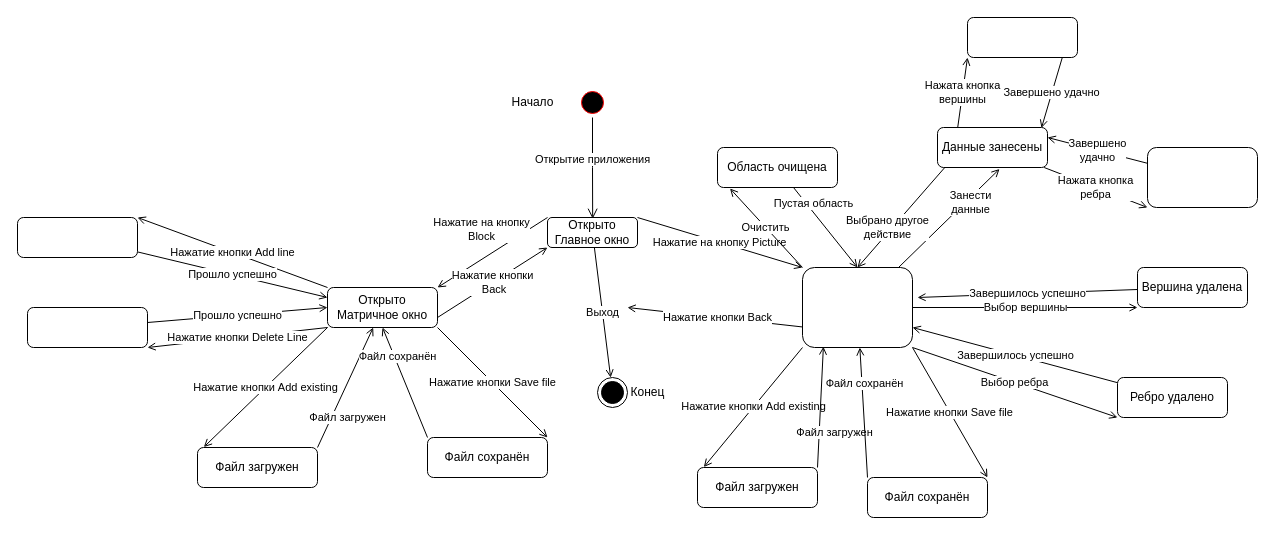
The diagram is 1275 pixels wide and 535 high, and some of its shapes have lost their labels. The centre of each missing label's shape, as x and y in pixels:
Добавлена вершина: (x=1022, y=37)
Добавлено ребро: (x=1202, y=177)
Открыто Графическое окно: (x=857, y=307)
Строка добавлена: (x=77, y=237)
Строка удалена: (x=87, y=327)
